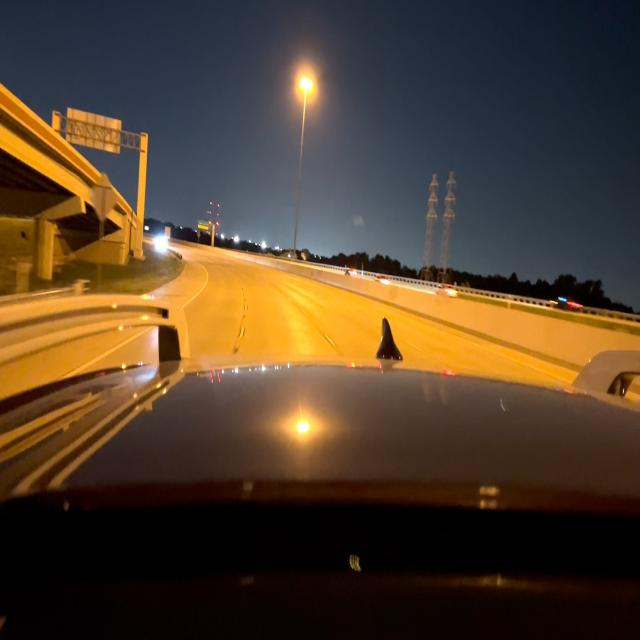back-of-sign: (66, 107, 121, 154), (90, 173, 117, 222)
